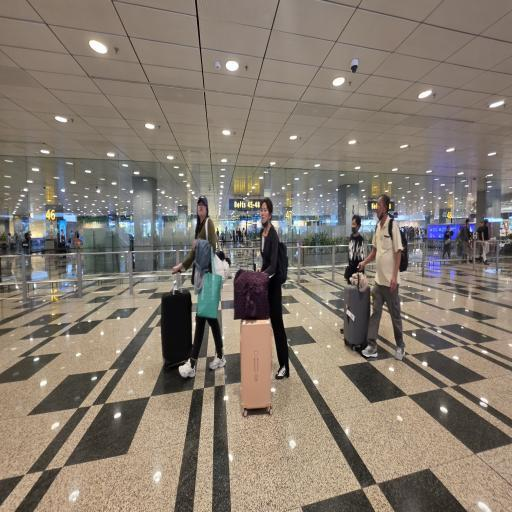person_left: (344, 209, 365, 284)
person_with_luggage_left: (158, 182, 229, 382), (231, 202, 288, 406), (344, 197, 406, 355)
